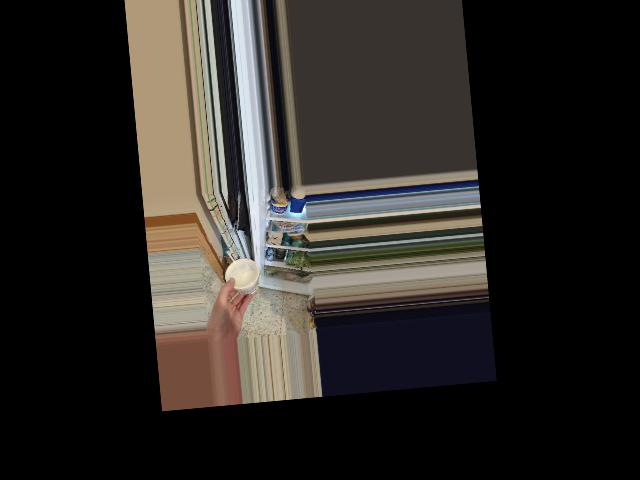cotage: (227, 253, 260, 291)
